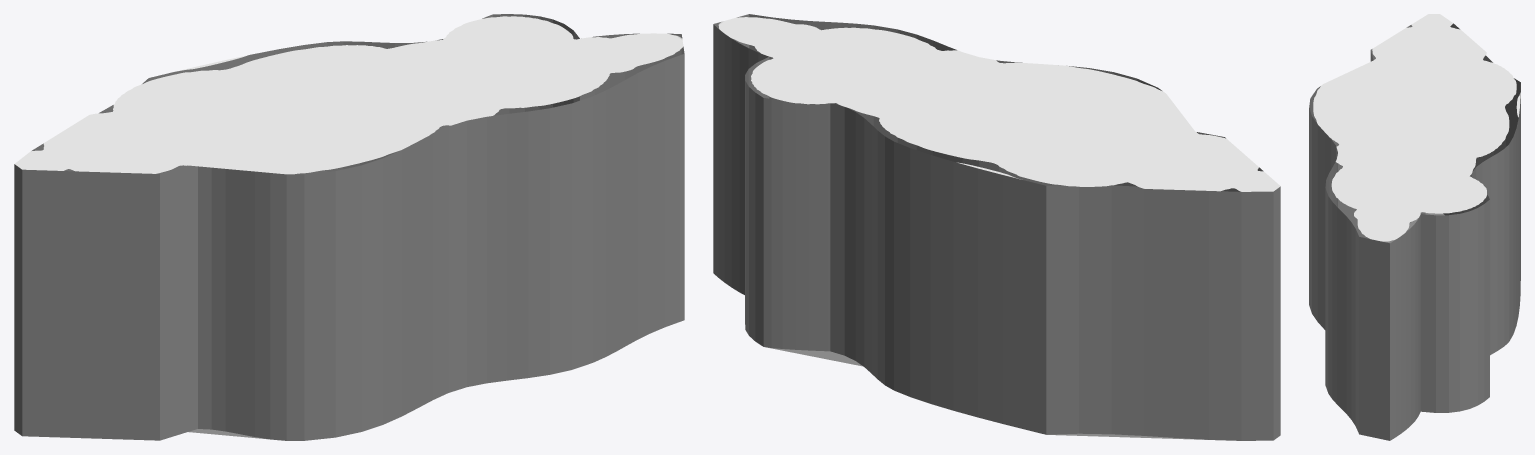
File: Cloud.FBX
The picture shows the model from 3 angles, left to right: view 1: azimuth 30°, elevation 25°; view 2: azimuth 150°, elevation 25°; view 3: azimuth 270°, elevation 25°; orthographic projection. The views are drawn at different scales.
Parts seen in each view (by area): view 1: Shape1; view 2: Shape1; view 3: Shape1.
Boxes of the visible parts, <box> form: Shape1: <box>14,14,684,440</box>; Shape1: <box>713,14,1280,440</box>; Shape1: <box>1309,14,1520,440</box>.
Size of the model in its own units: 4.97 by 2 by 1.94.
